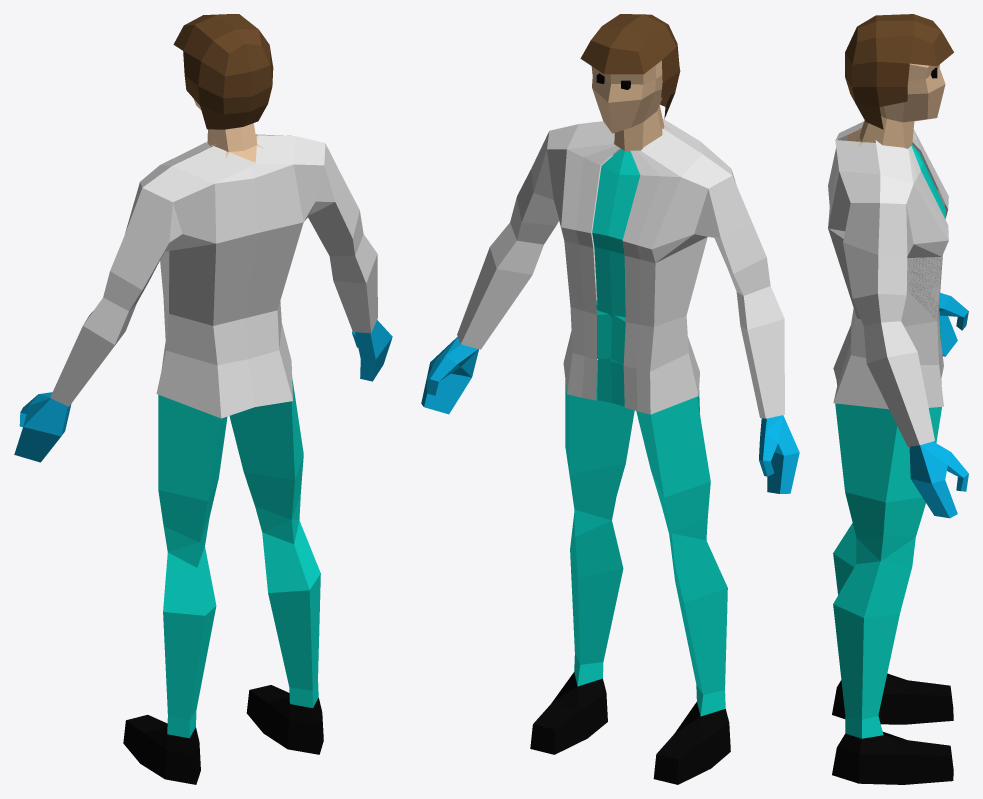
The model's file is surgeon.fbx.
3 renders of one model, left to right at view 1: azimuth 30°, elevation 25°; view 2: azimuth 150°, elevation 25°; view 3: azimuth 270°, elevation 25°, orthographic.
Parts seen in each view (by area): view 1: Character.003, Character, Character.009, Character.007, Character.004, Character.001; view 2: Character.003, Character, Character.007, Character.002, Character.009, Character.004, Character.001, Character.008; view 3: Character.003, Character, Character.007, Character.009, Character.004, Character.001, Character.002.
Part boxes in pixels (left/top/right/bottom): Character.003: left=50, top=134, right=377, bottom=418; Character: left=158, top=379, right=320, bottom=738; Character.009: left=173, top=14, right=273, bottom=129; Character.007: left=123, top=685, right=323, bottom=784; Character.004: left=14, top=320, right=392, bottom=462; Character.001: left=193, top=98, right=257, bottom=151; Character.003: left=457, top=119, right=784, bottom=418; Character: left=565, top=360, right=727, bottom=716; Character.007: left=530, top=672, right=730, bottom=784; Character.002: left=592, top=149, right=640, bottom=406; Character.009: left=580, top=14, right=680, bottom=118; Character.004: left=421, top=337, right=799, bottom=493; Character.001: left=592, top=60, right=664, bottom=150; Character.008: left=596, top=300, right=625, bottom=365; Character.003: left=828, top=121, right=948, bottom=446; Character: left=833, top=382, right=941, bottom=738; Character.007: left=832, top=673, right=953, bottom=784; Character.009: left=845, top=14, right=953, bottom=129; Character.004: left=909, top=293, right=968, bottom=518; Character.001: left=859, top=63, right=945, bottom=148; Character.002: left=910, top=145, right=945, bottom=219.
Bounding box in the file's own units: 97.75 × 183 × 32.31.
